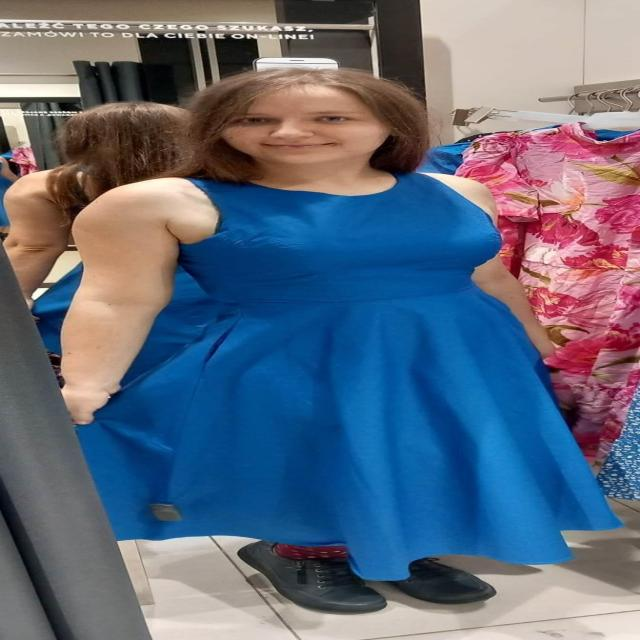dress: (78, 175, 624, 581)
